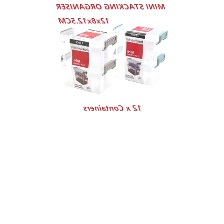plastic_box: (55, 20, 121, 98), (108, 16, 172, 91)
